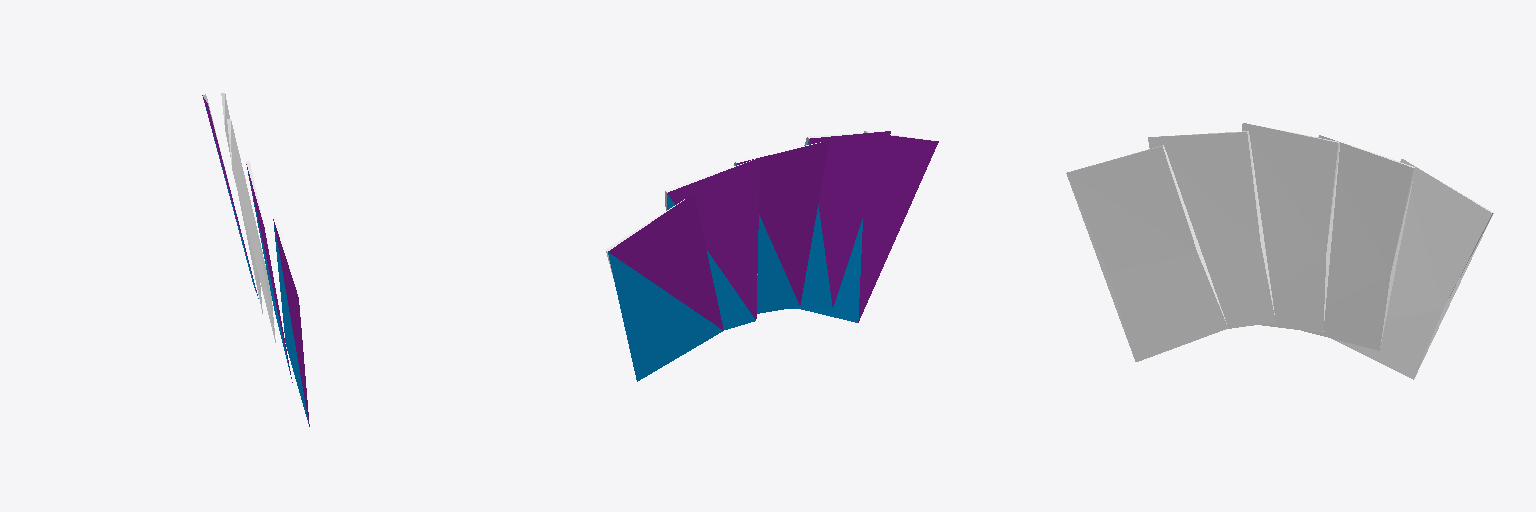
The picture shows the model from 3 angles: view 1: azimuth 30°, elevation 25°; view 2: azimuth 150°, elevation 25°; view 3: azimuth 270°, elevation 25°; orthographic projection.
Visible parts, largest first — view 1: group[number redacted], group[number redacted], group[number redacted], group[number redacted]; view 2: group[number redacted], group[number redacted], group[number redacted], group[number redacted], group[number redacted]; view 3: group[number redacted], group[number redacted], group[number redacted], group[number redacted], group[number redacted].
Part boxes in pixels (left/top/right/bottom): group[number redacted]: left=273, top=217, right=309, bottom=426; group[number redacted]: left=227, top=119, right=275, bottom=342; group[number redacted]: left=246, top=161, right=292, bottom=382; group[number redacted]: left=202, top=94, right=258, bottom=298; group[number redacted]: left=606, top=194, right=723, bottom=381; group[number redacted]: left=734, top=140, right=829, bottom=313; group[number redacted]: left=665, top=158, right=759, bottom=329; group[number redacted]: left=790, top=131, right=890, bottom=308; group[number redacted]: left=801, top=131, right=938, bottom=322; group[number redacted]: left=1066, top=145, right=1227, bottom=361; group[number redacted]: left=1242, top=123, right=1339, bottom=332; group[number redacted]: left=1148, top=131, right=1275, bottom=328; group[number redacted]: left=1301, top=135, right=1415, bottom=350; group[number redacted]: left=1333, top=159, right=1493, bottom=379.
Bounding box in the file's own units: 0.2274 × 0.3922 × 0.658.